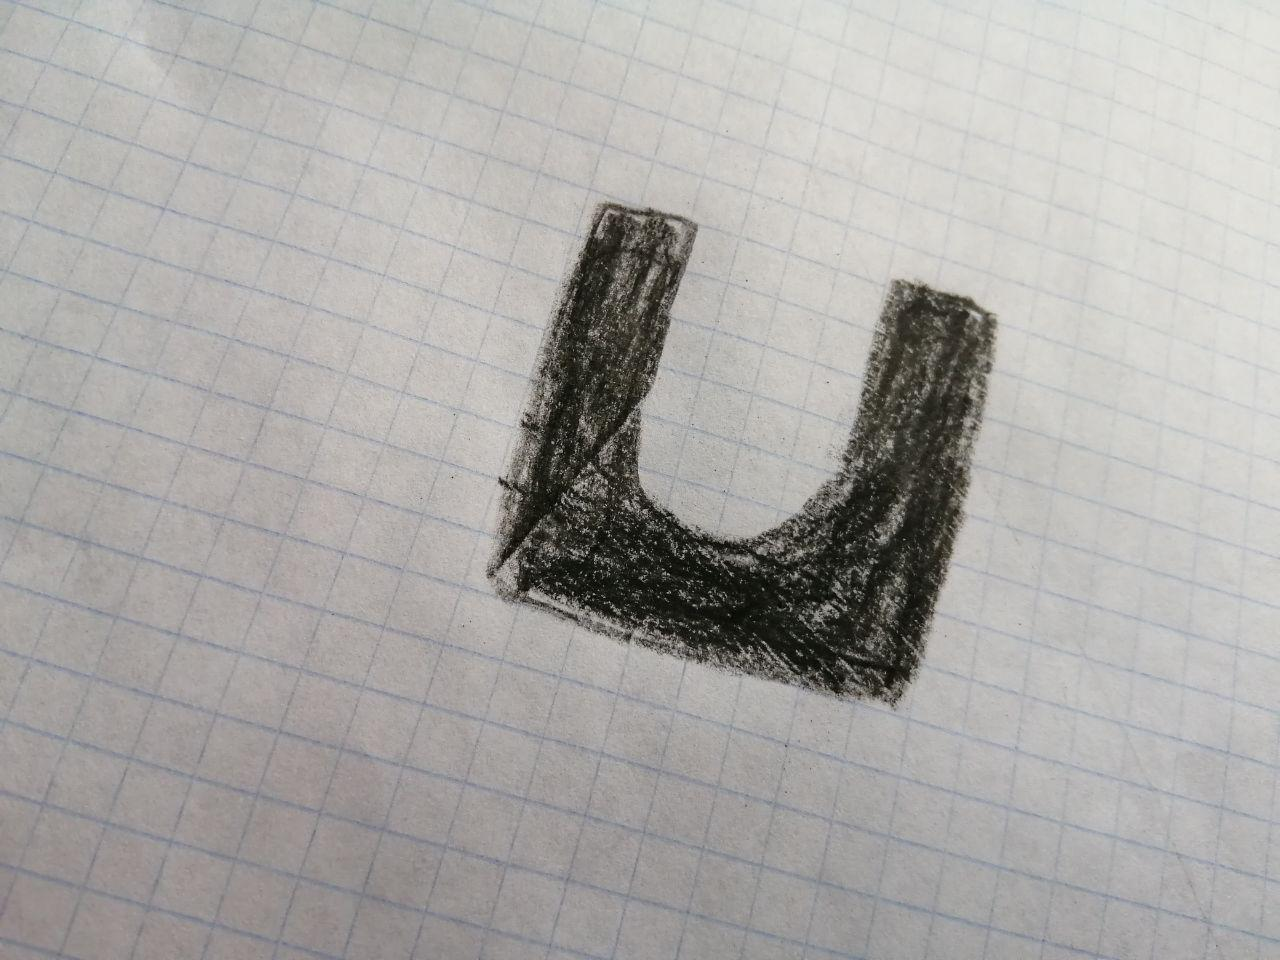u: (478, 179, 1012, 734)
